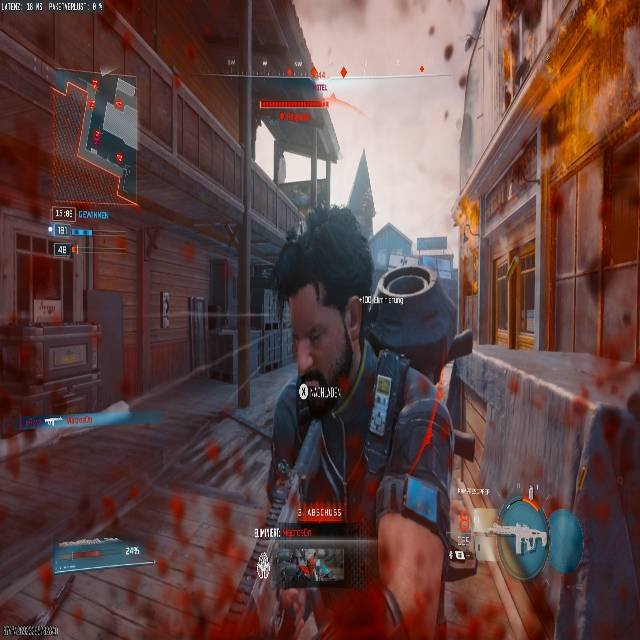head: (272, 205, 374, 389)
player: (149, 201, 537, 640)
